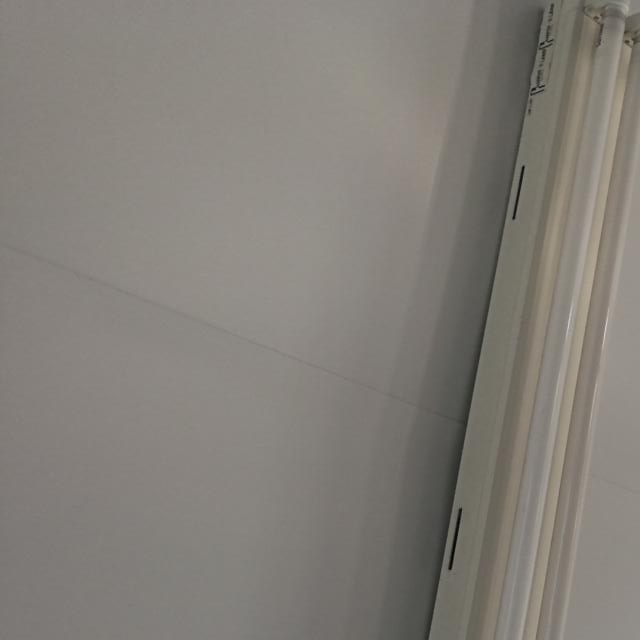fluorescent tube: (301, 0, 640, 640)
